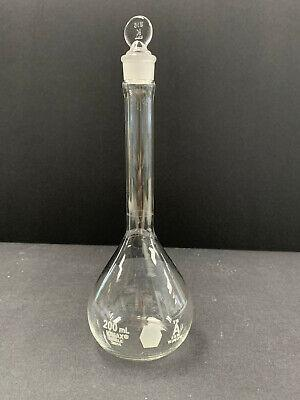Volumetric flask: (80, 17, 195, 361)
